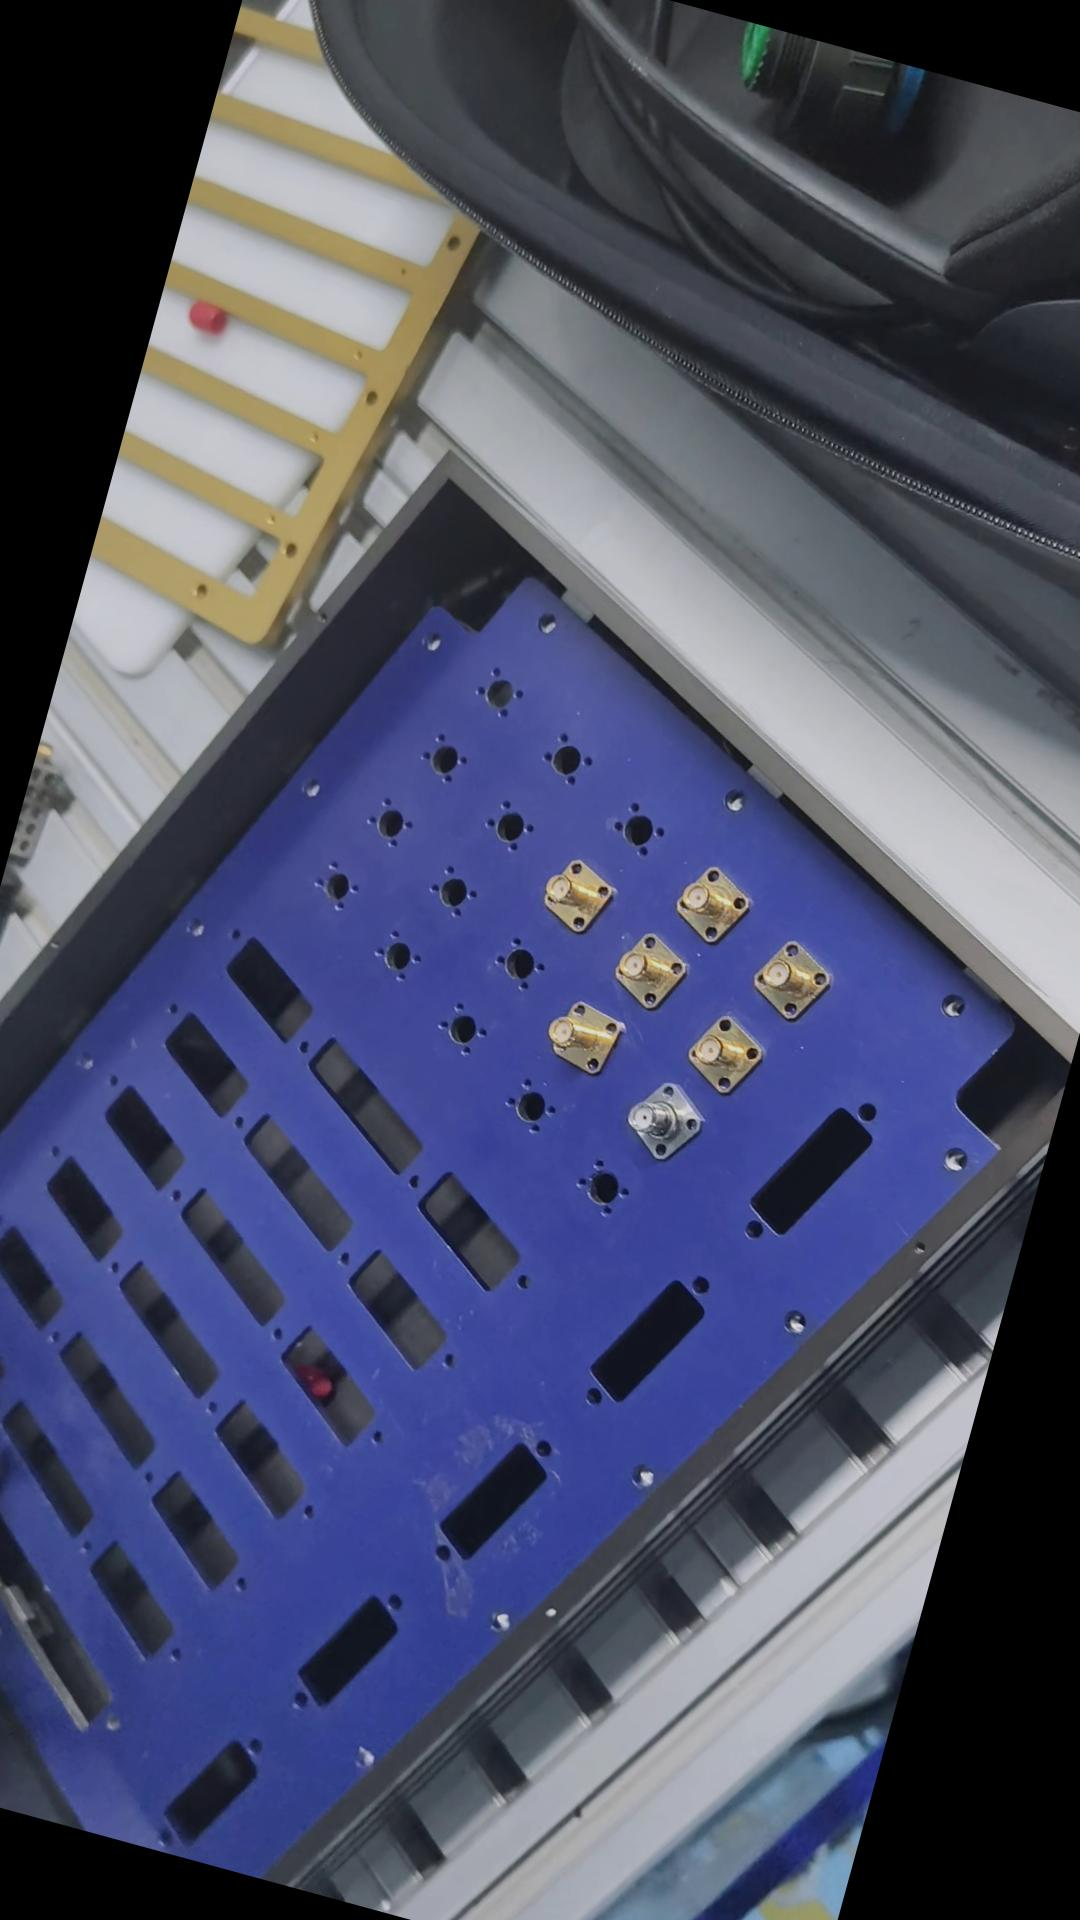SMA: (612, 1068, 712, 1167), (601, 922, 700, 1019), (527, 848, 625, 944), (676, 1006, 773, 1098), (740, 934, 837, 1025), (531, 988, 625, 1081), (663, 855, 756, 948)
